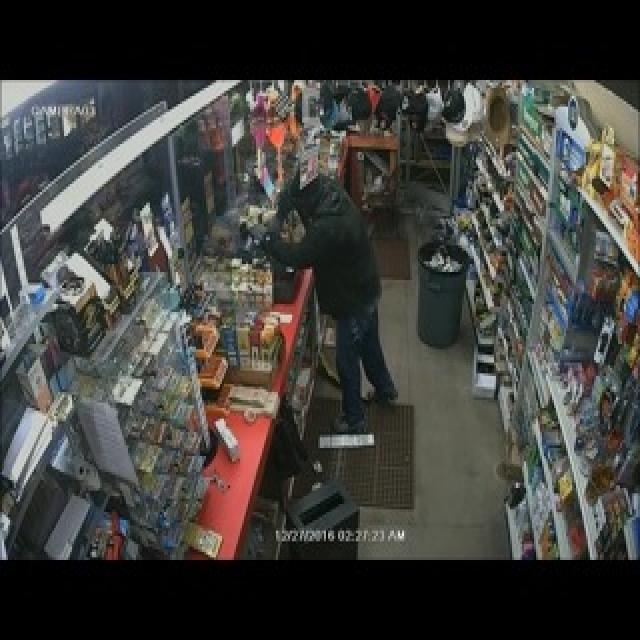thief: (286, 170, 400, 379)
